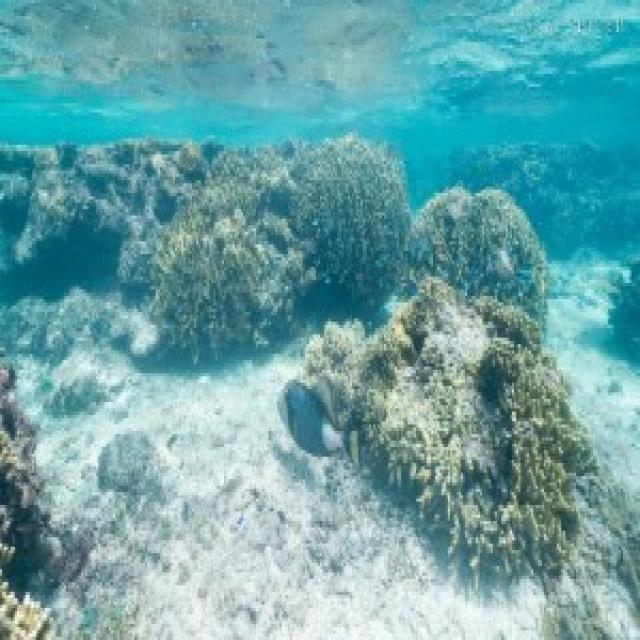Healthy: (308, 281, 586, 583), (155, 178, 315, 361), (293, 136, 411, 300), (408, 194, 545, 329)
